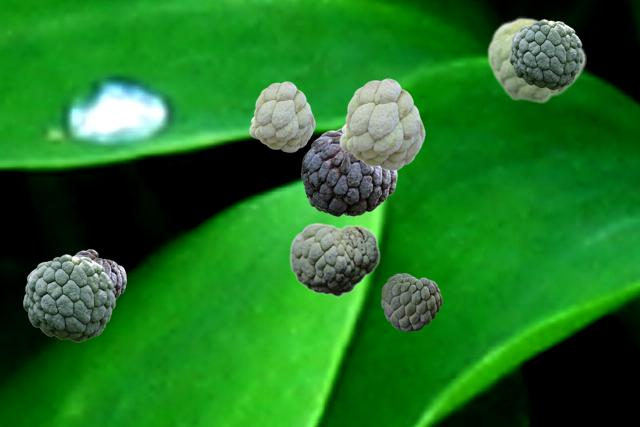atis: (486, 16, 585, 103), (301, 128, 396, 215), (23, 254, 114, 341), (339, 78, 424, 169), (289, 222, 379, 296), (509, 19, 582, 89), (249, 81, 314, 151), (381, 273, 441, 330), (75, 249, 125, 300), (306, 196, 326, 213)
